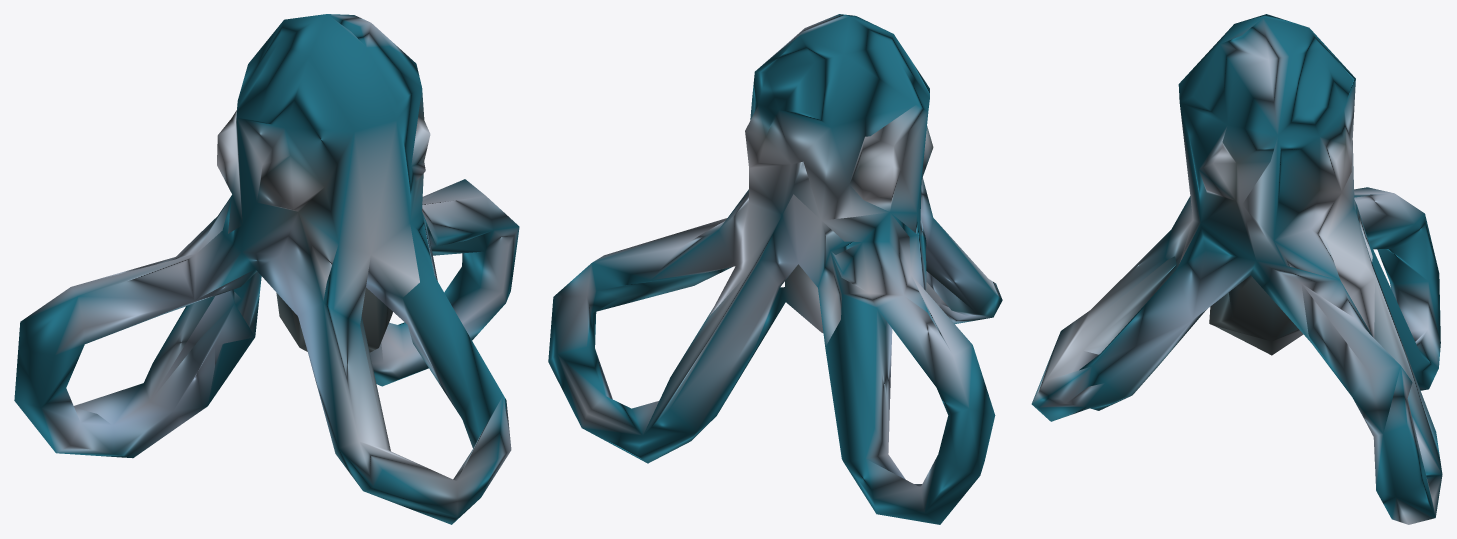
Rendered from gen3d-kraken-lod1.glb.
The picture shows the model from 3 angles, left to right: view 1: azimuth 30°, elevation 25°; view 2: azimuth 150°, elevation 25°; view 3: azimuth 270°, elevation 25°; orthographic projection. The views are drawn at different scales.
Visible parts, largest first — view 1: part_0; view 2: part_0; view 3: part_0.
Part boxes in pixels (x1,y1,x2,y2): part_0: (14,14,519,524); part_0: (548,14,1002,524); part_0: (1031,14,1442,524).
Size of the model in its own units: 1.08 by 0.9845 by 0.8427.
